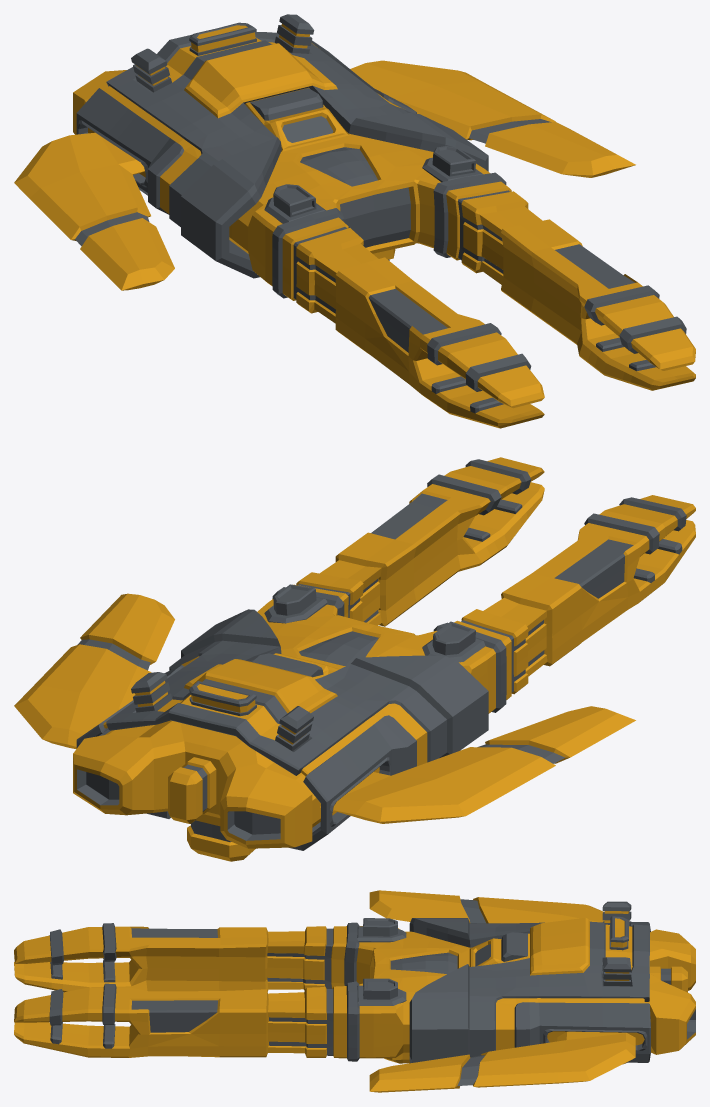
The model's file is Fighter_01_Yellow.fbx.
3 renders of one model, top to bottom at view 1: azimuth 30°, elevation 25°; view 2: azimuth 150°, elevation 25°; view 3: azimuth 270°, elevation 25°, orthographic. The views are drawn at different scales.
Parts seen in each view (by area): view 1: Fighter_01_Yellow; view 2: Fighter_01_Yellow; view 3: Fighter_01_Yellow.
Part boxes in pixels (left/top/right/bottom): Fighter_01_Yellow: left=14, top=14, right=695, bottom=428; Fighter_01_Yellow: left=14, top=457, right=695, bottom=861; Fighter_01_Yellow: left=14, top=890, right=695, bottom=1092.
Bounding box in the file's own units: 854 × 257 × 1235.
Materials: 2 (2 with a texture image).
